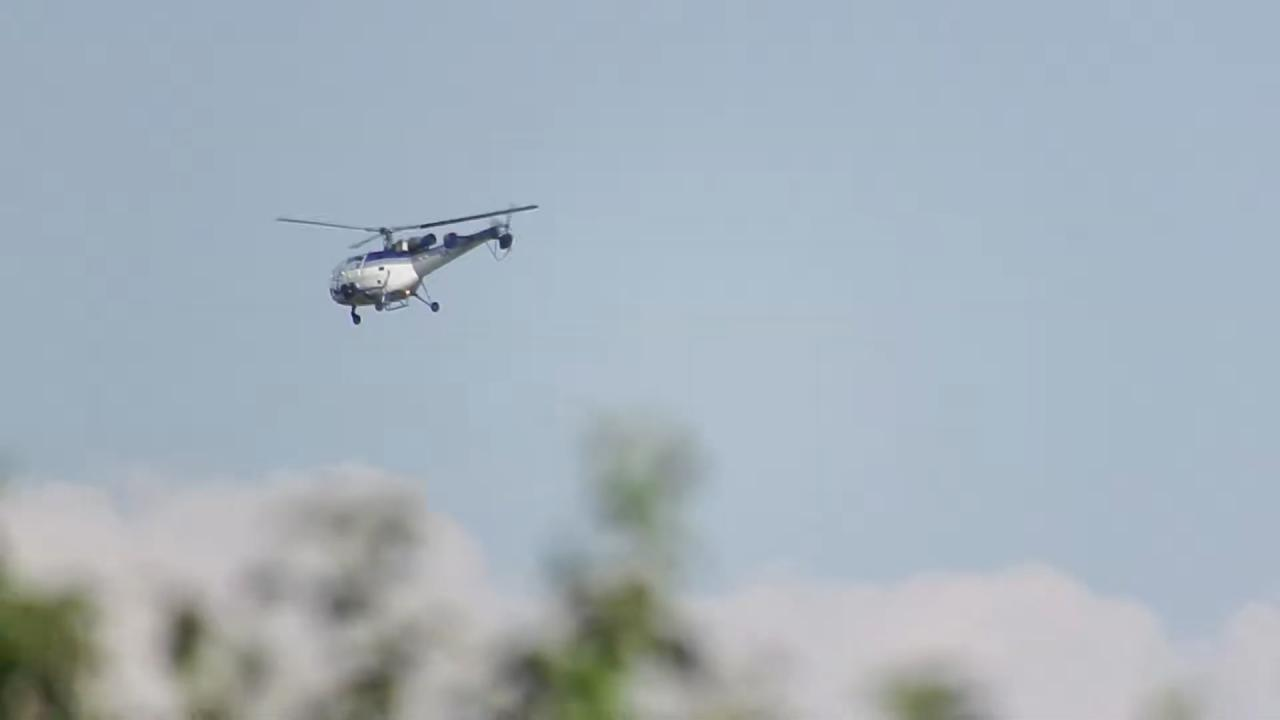Helicopter: (258, 173, 550, 348)
